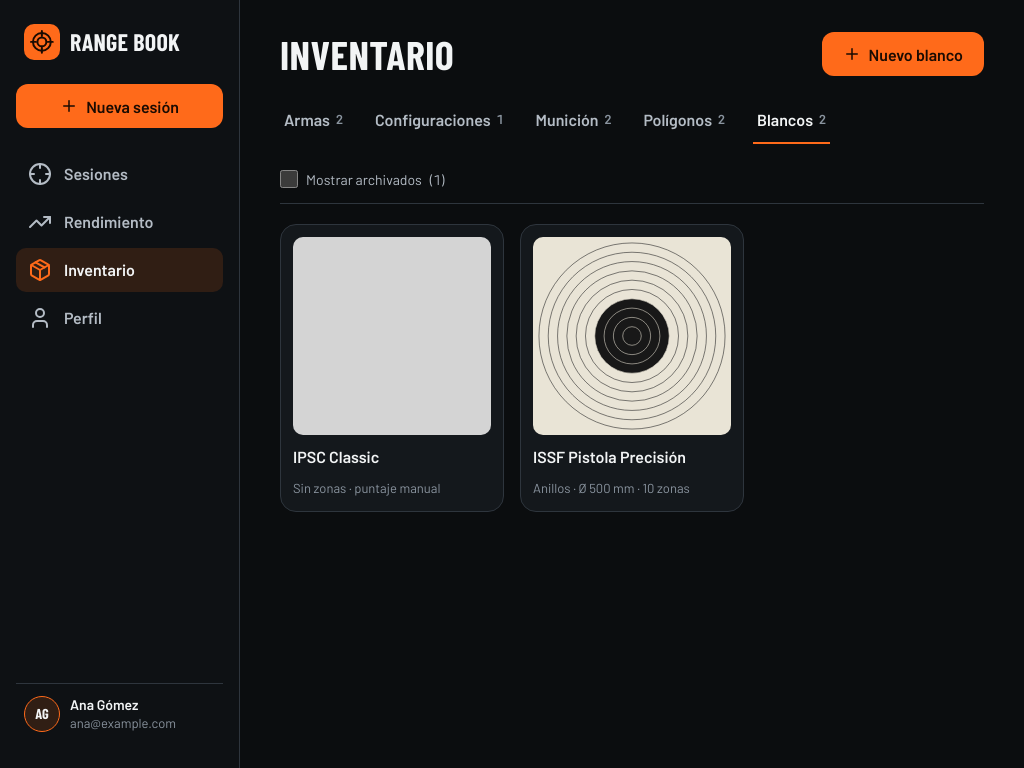
Test: Inventario: blancos › edición › tocar la tarjeta abre el blanco con sus zonas y guarda los cambios
The width and height of the screenshot is (1024, 768).
Click the link with aria-label "Editar ISSF Pistola Precisión" at [632, 368], box [520,224,744,512]
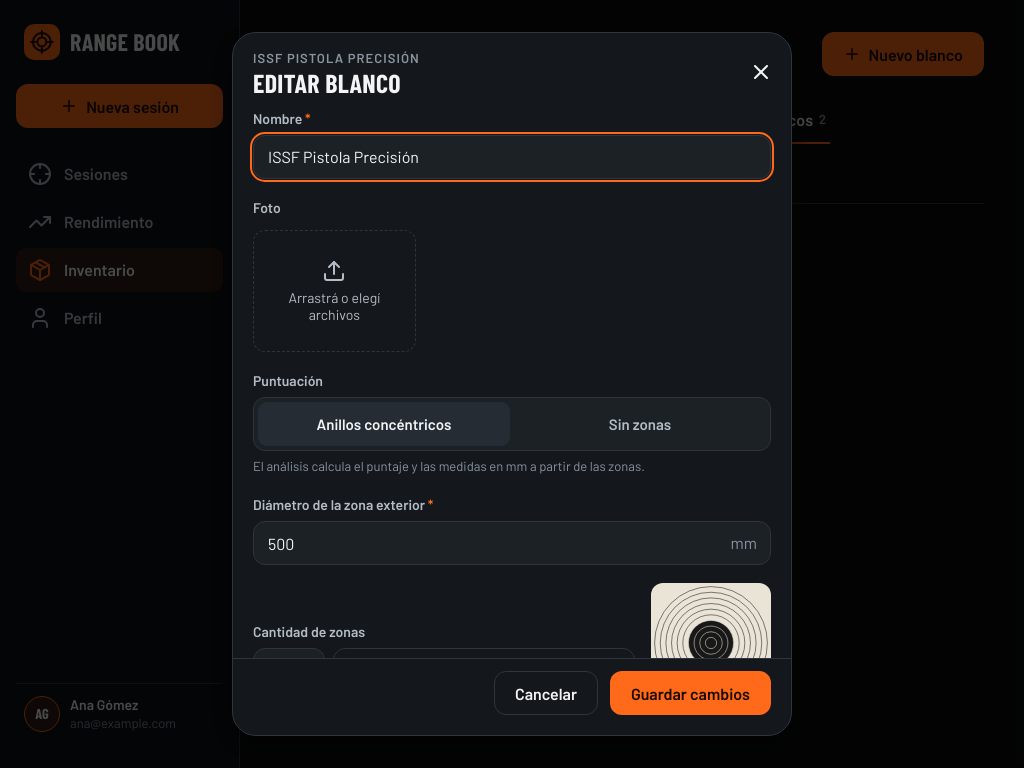
expect the heading "Editar blanco" is shown: met, box [253,68,420,96]
expect the radio button labelled "Anillos concéntricos" is checked: met, box [258,402,510,446]
Replace the text in the field labelled "Nombre *" with "ISSF 25 m" at [512, 157], box [253,135,771,179]
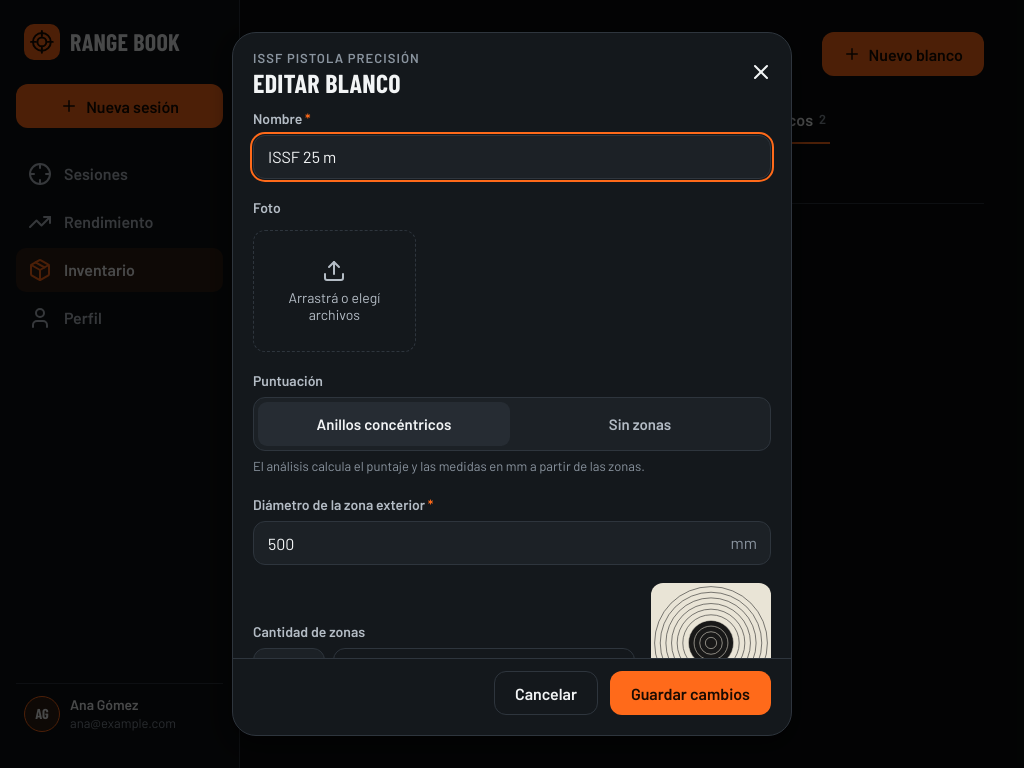
Click the button "Guardar cambios" at [690, 693], box [610,671,771,715]
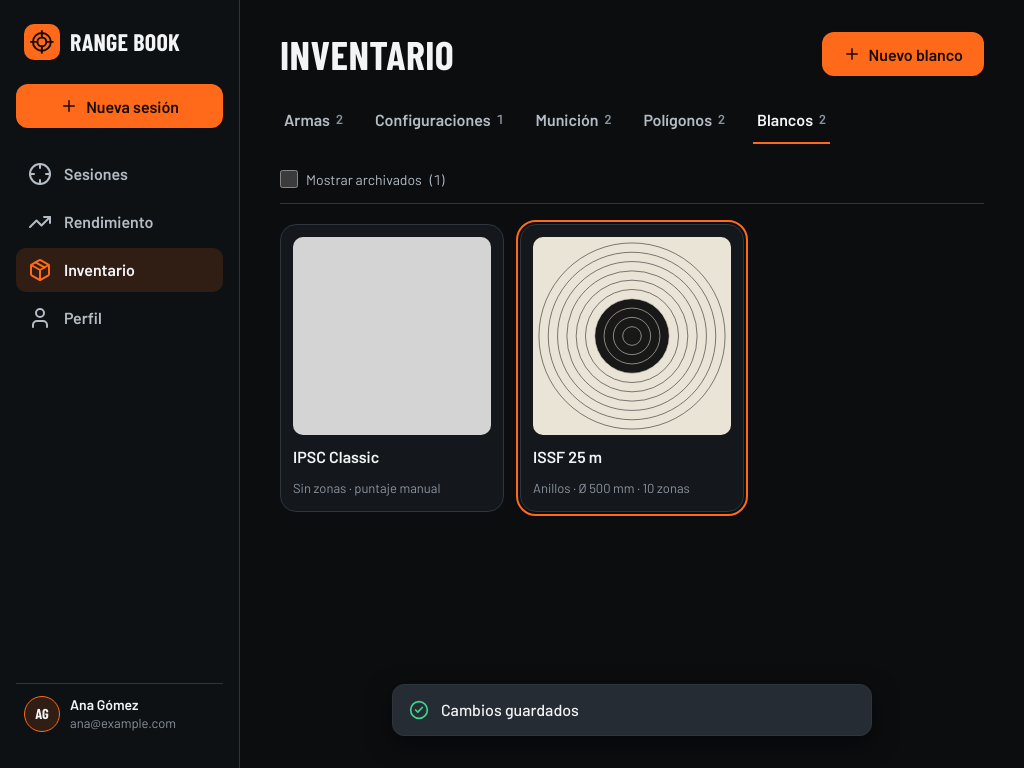
expect the dialog is gone: met
